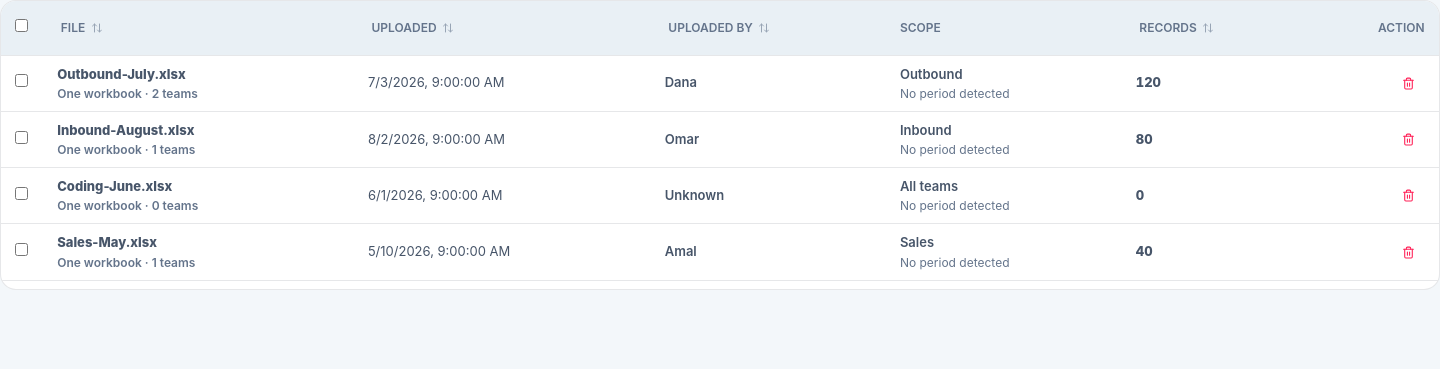
Test: UploadHistory selection › select-all still selects every row, including when the rows are sorted
Click the button "File" at (82, 28), box [57,12,106,44]
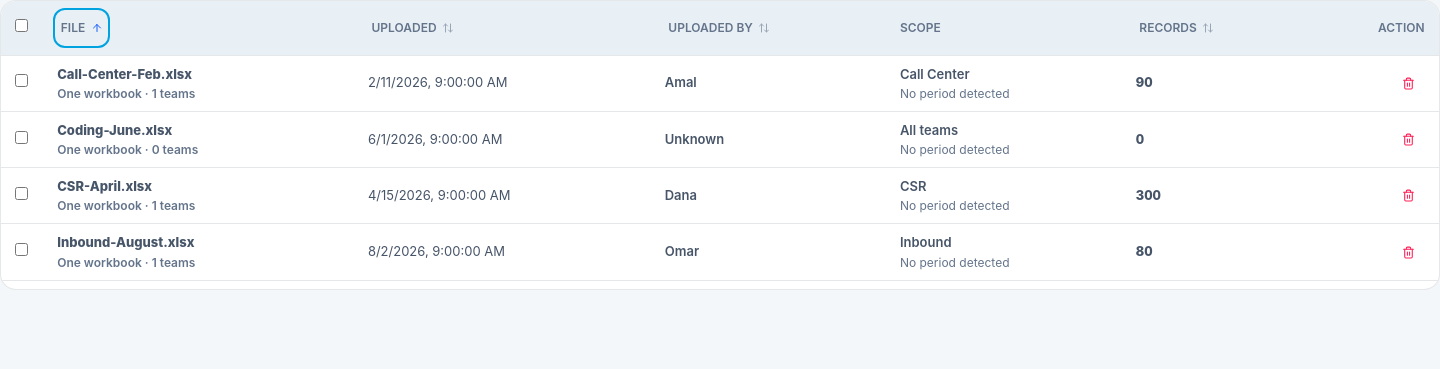
Click the checkbox named "Select all uploads" at (22, 26), box [15,19,28,32]
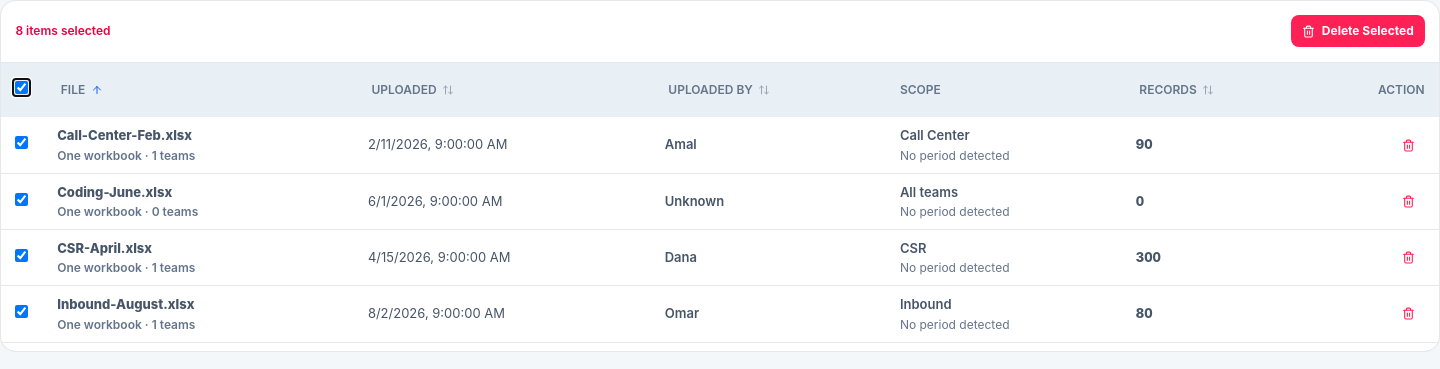
Now the text "8 items selected" is shown, box [15,23,110,39]
